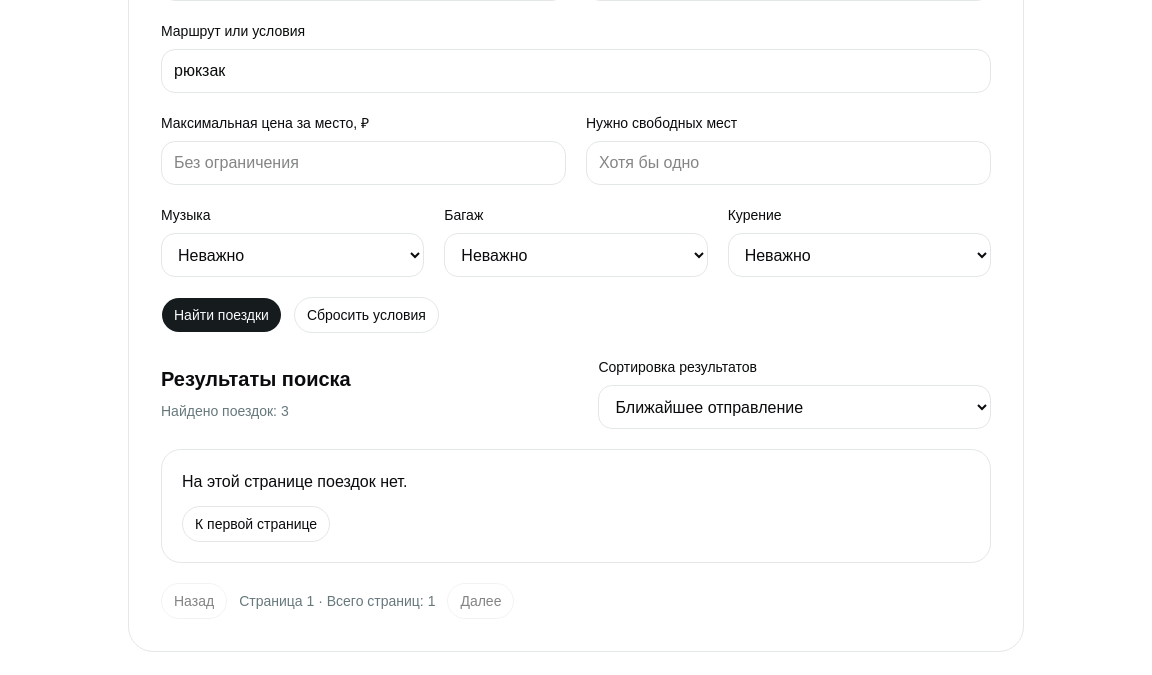
Test: Форма публичного поиска › сбрасывает условия и ссылку
This screenshot has width=1152, height=675.
(page scrolled)
Expected: the text "Найдено поездок: 3" is shown, [161,403,289,419]
Click the button "Сбросить условия" at {"x": 366, "y": 315}, box [294,297,439,333]
(page scrolled)
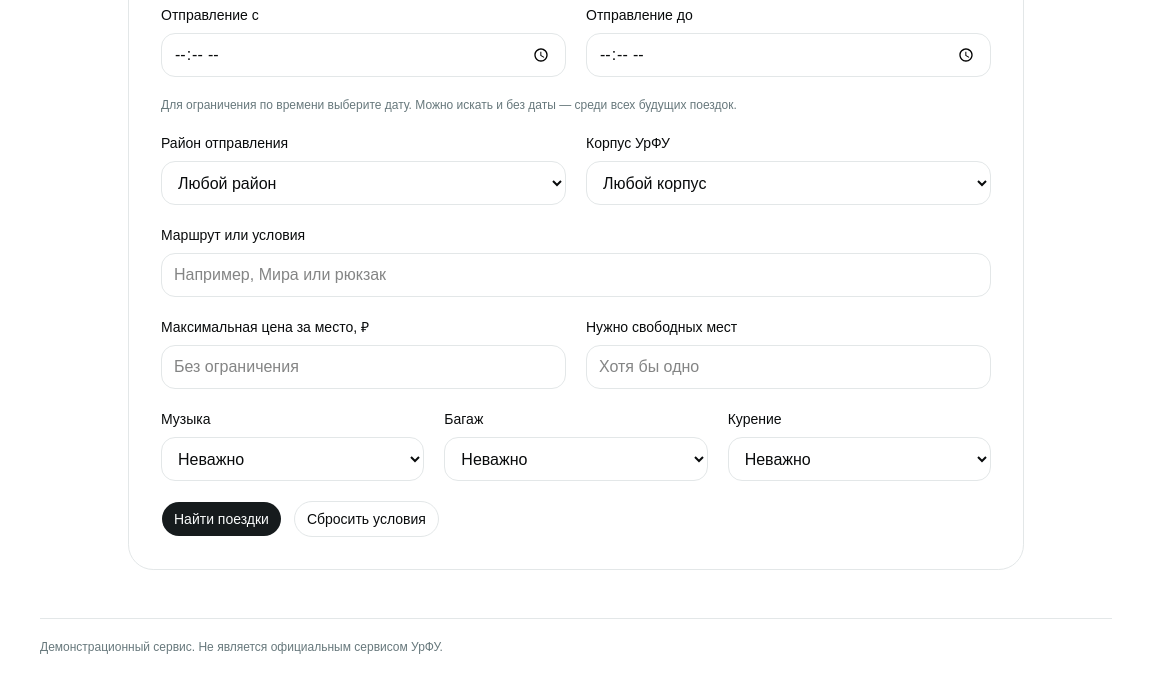
Expected: the search field labelled "Маршрут или условия" is empty, [161,253,991,297]
Expected: the text "Найдено поездок: 3" is gone
